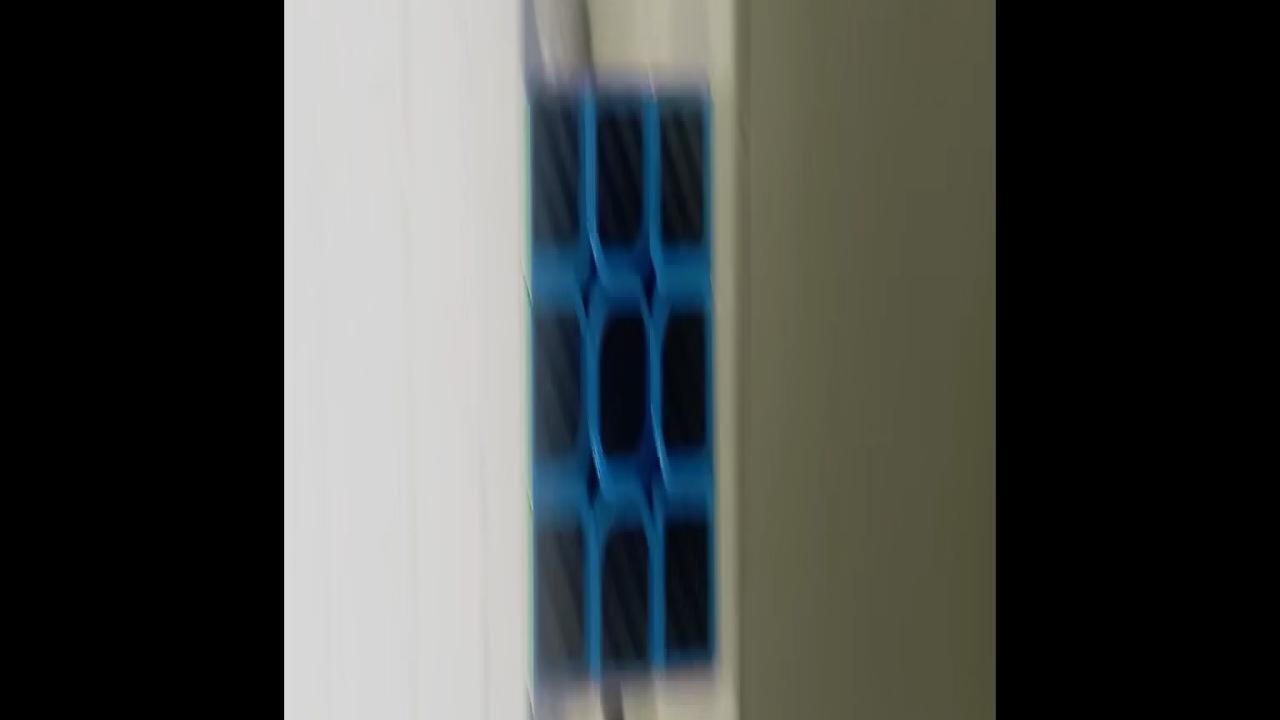Cube: (520, 64, 718, 720)
